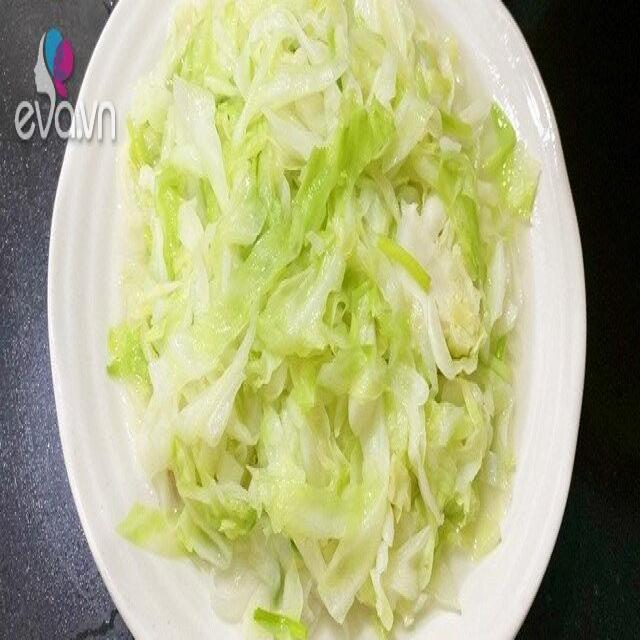bap cai xao: (106, 0, 540, 638)
